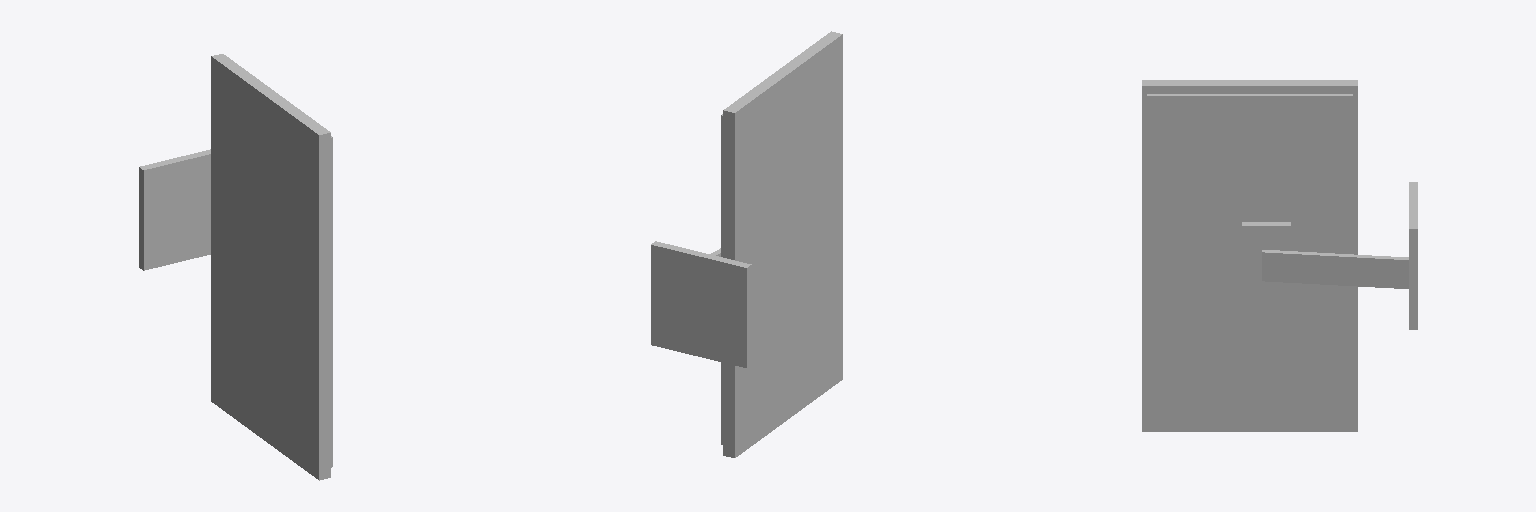
The model's file is monitorbox.obj.
3 views of the same model, side by side, from view 1: azimuth 30°, elevation 25°; view 2: azimuth 150°, elevation 25°; view 3: azimuth 270°, elevation 25° (orthographic).
Parts seen in each view (by area): view 1: Cube.020, Cube.018, Cube.022; view 2: Cube.020, Cube.018; view 3: Cube.022, Cube.020, Cube.019, Cube.021, Cube.018.
Boxes of the visible parts, x1=… form: Cube.020: x1=211, y1=54, x2=330, y2=480; Cube.018: x1=139, y1=149, x2=210, y2=270; Cube.022: x1=331, y1=136, x2=332, y2=467; Cube.020: x1=723, y1=31, x2=842, y2=457; Cube.018: x1=651, y1=241, x2=751, y2=367; Cube.022: x1=1147, y1=94, x2=1352, y2=425; Cube.020: x1=1142, y1=80, x2=1357, y2=431; Cube.019: x1=1262, y1=250, x2=1408, y2=288; Cube.021: x1=1242, y1=222, x2=1290, y2=303; Cube.018: x1=1409, y1=182, x2=1417, y2=329.
Size of the model in its own units: 0.1415 by 0.4864 by 0.3529.